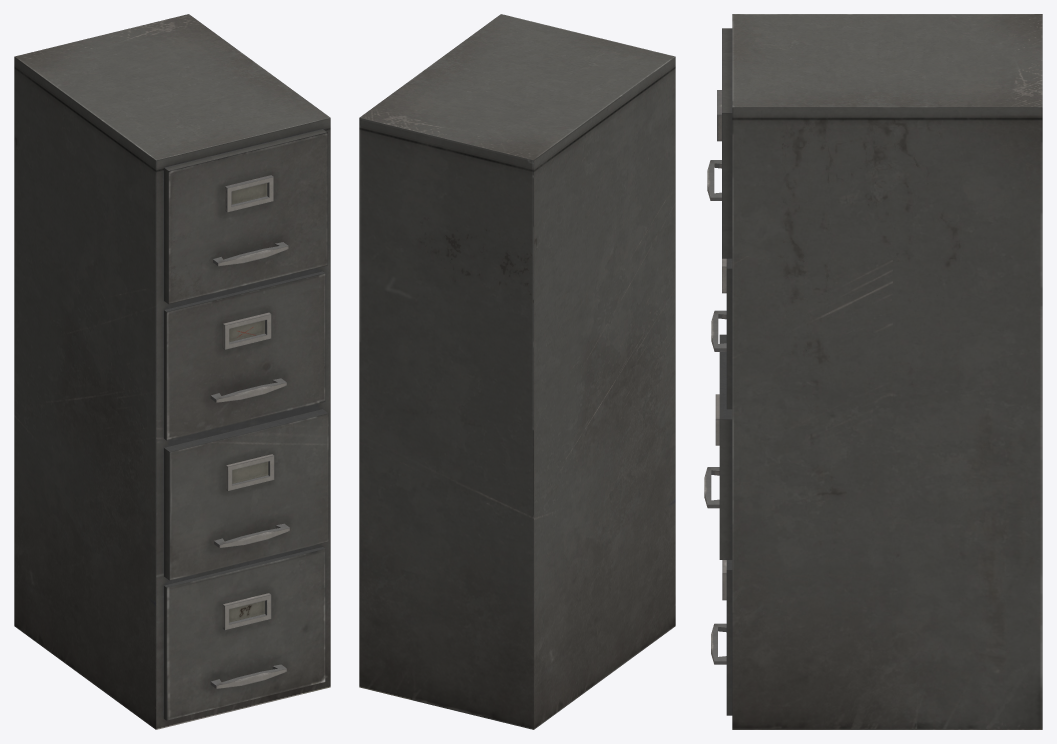
The model's file is FileCabinet fbx.fbx.
The picture shows the model from 3 angles, left to right: view 1: azimuth 30°, elevation 25°; view 2: azimuth 150°, elevation 25°; view 3: azimuth 270°, elevation 25°; orthographic projection. The views are drawn at different scales.
Parts seen in each view (by area): view 1: Box02; view 2: Box02; view 3: Box02.
Boxes of the visible parts, x1,y1,x2,y2 form: Box02: (14,14,330,729); Box02: (359,14,675,729); Box02: (704,14,1042,729).
Size of the model in its own units: 11.12 by 34.65 by 17.06.
